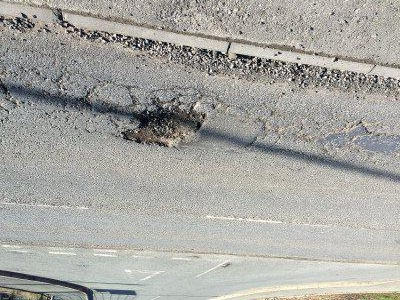pothole: (117, 98, 211, 149)
